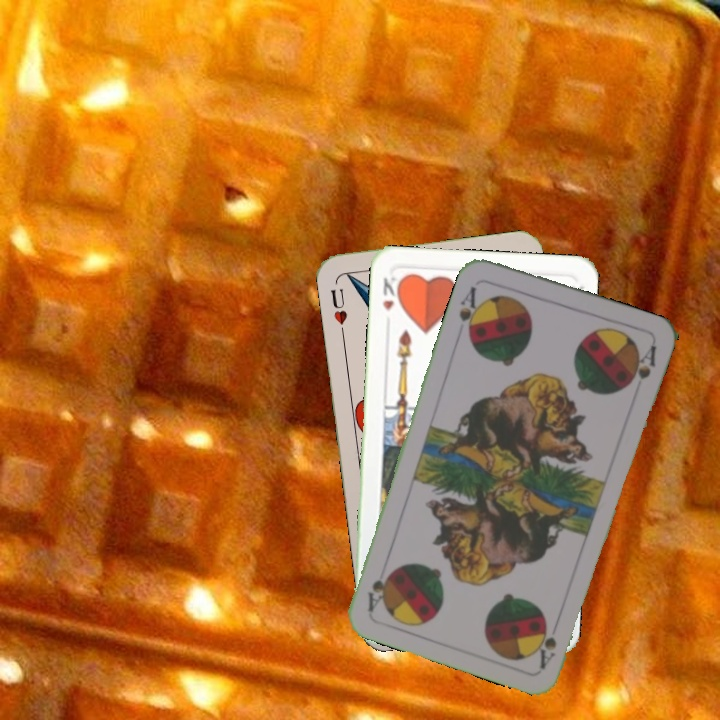HK: (378, 273, 404, 313)
HU: (327, 284, 350, 338)
SA: (455, 282, 485, 340), (534, 614, 563, 671)
